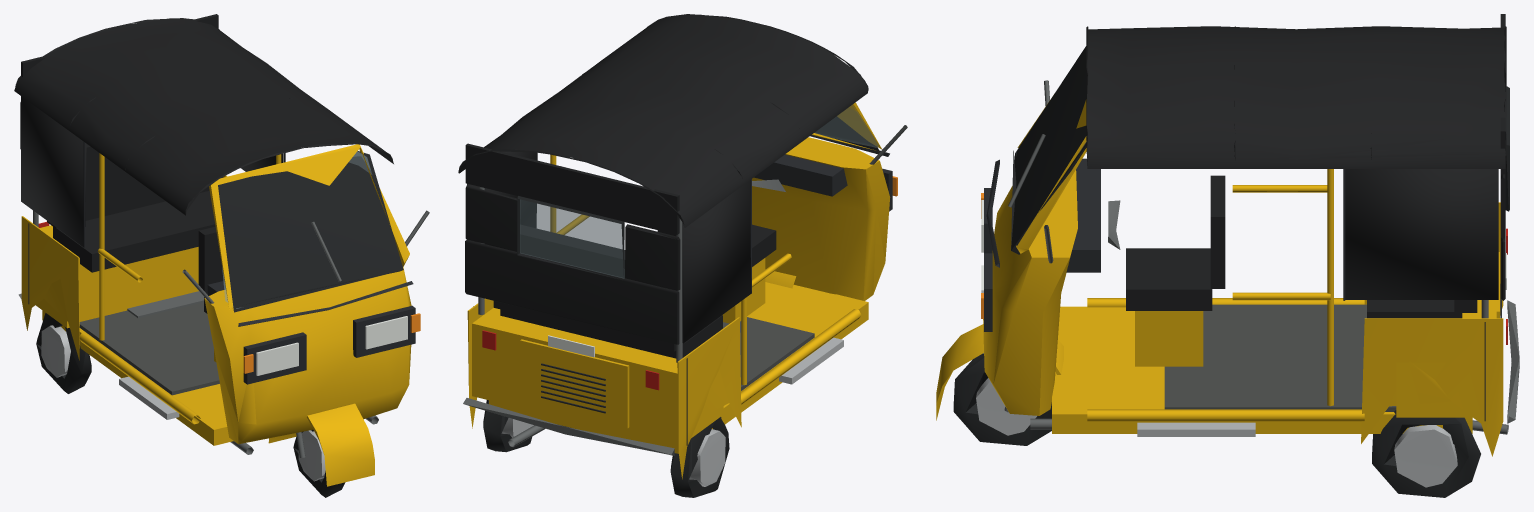
File: keke_lod2.glb
3 views of the same model, side by side, from view 1: azimuth 30°, elevation 25°; view 2: azimuth 150°, elevation 25°; view 3: azimuth 270°, elevation 25° (orthographic). The views are drawn at different scales.
Visible parts, largest first — view 1: Body; view 2: Body; view 3: Body.
Boxes of the visible parts, <box> form: Body: <box>14,14,429,497</box>; Body: <box>458,14,907,497</box>; Body: <box>936,14,1519,497</box>.
Bounding box in the file's own units: 1.54 × 1.89 × 2.57.
